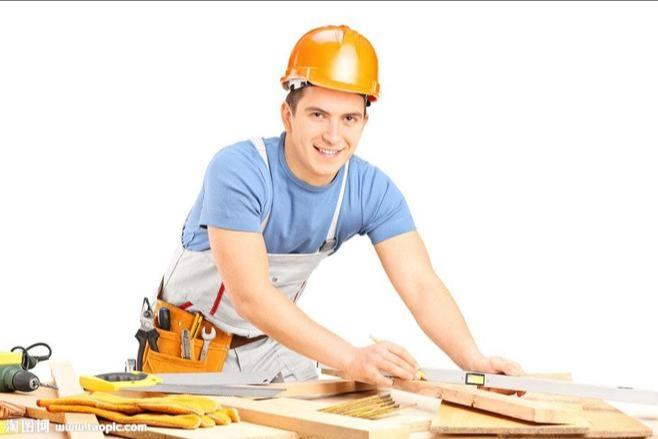helmet: (276, 25, 398, 102)
no_wear: (187, 176, 384, 348)
